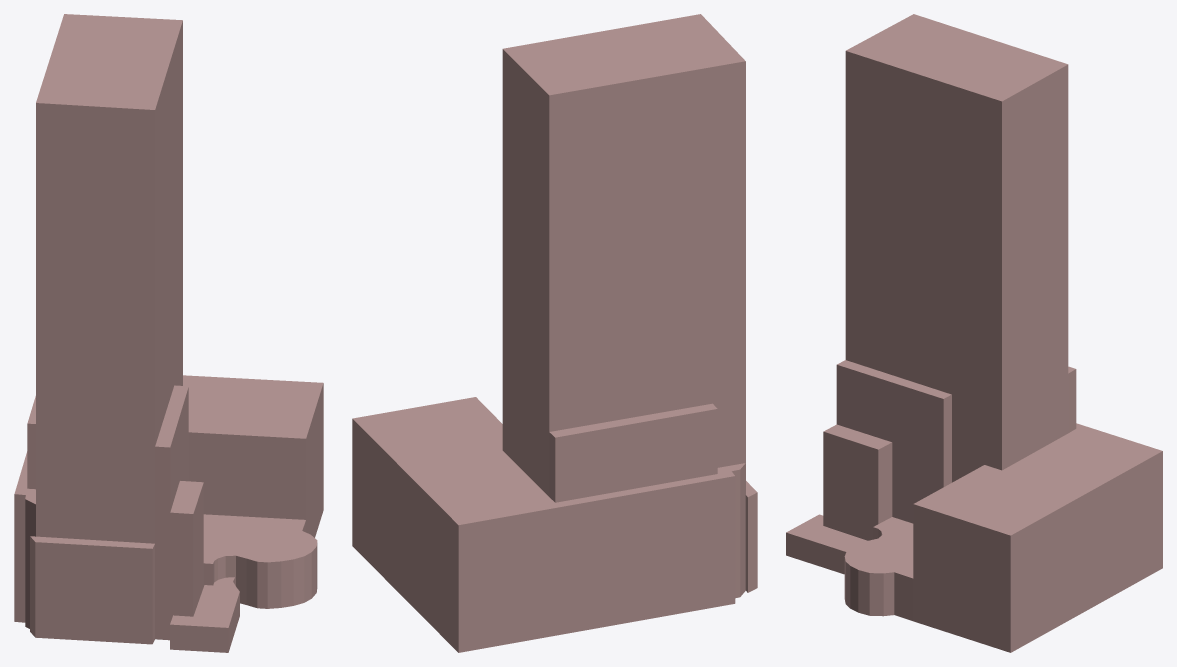
File: 70-park-settlement-envelope.glb
3 views of the same model, side by side, from view 1: azimuth 30°, elevation 25°; view 2: azimuth 150°, elevation 25°; view 3: azimuth 270°, elevation 25° (orthographic). The views are drawn at different scales.
Parts seen in each view (by area): view 1: wf-70settlement-tower-thirty-three, wf-70settlement-podium-six-east, wf-70settlement-stepback-four-west, wf-70settlement-courtyard-two, wf-70settlement-stepback-ten-south, wf-70settlement-podium-six-west, wf-70settlement-entrance-one, wf-70settlement-stepback-ten-north; view 2: wf-70settlement-tower-thirty-three, wf-70settlement-podium-six-east, wf-70settlement-stepback-ten-north, wf-70settlement-stepback-four-west; view 3: wf-70settlement-tower-thirty-three, wf-70settlement-podium-six-east, wf-70settlement-stepback-ten-south, wf-70settlement-podium-six-west, wf-70settlement-courtyard-two, wf-70settlement-entrance-one, wf-70settlement-stepback-ten-north.
Boxes of the visible parts, x1,y1,x2,y2 form: wf-70settlement-tower-thirty-three: [36, 14, 182, 541]; wf-70settlement-podium-six-east: [14, 375, 323, 628]; wf-70settlement-stepback-four-west: [30, 536, 154, 644]; wf-70settlement-courtyard-two: [203, 514, 317, 608]; wf-70settlement-stepback-ten-south: [155, 385, 188, 640]; wf-70settlement-podium-six-west: [169, 481, 203, 639]; wf-70settlement-entrance-one: [170, 577, 239, 652]; wf-70settlement-stepback-ten-north: [27, 396, 35, 489]; wf-70settlement-tower-thirty-three: [502, 14, 745, 496]; wf-70settlement-podium-six-east: [352, 397, 745, 652]; wf-70settlement-stepback-ten-north: [549, 403, 717, 502]; wf-70settlement-stepback-four-west: [745, 481, 757, 592]; wf-70settlement-tower-thirty-three: [845, 14, 1068, 482]; wf-70settlement-podium-six-east: [913, 423, 1162, 652]; wf-70settlement-stepback-ten-south: [836, 360, 951, 523]; wf-70settlement-podium-six-west: [823, 424, 892, 540]; wf-70settlement-courtyard-two: [844, 517, 913, 620]; wf-70settlement-entrance-one: [786, 514, 867, 574]; wf-70settlement-stepback-ten-north: [1068, 366, 1076, 432].
Bounding box in the file's own units: 72.43 × 106 × 74.22.
